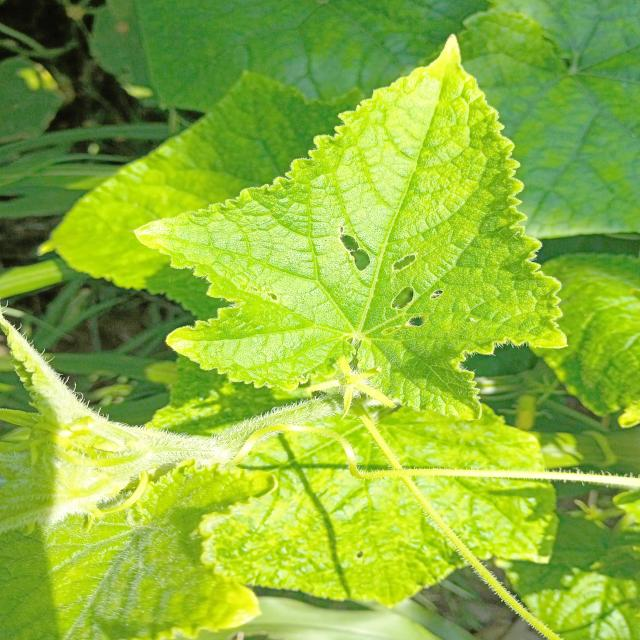Fresh-Leaf: (126, 28, 571, 418), (0, 458, 278, 640)
